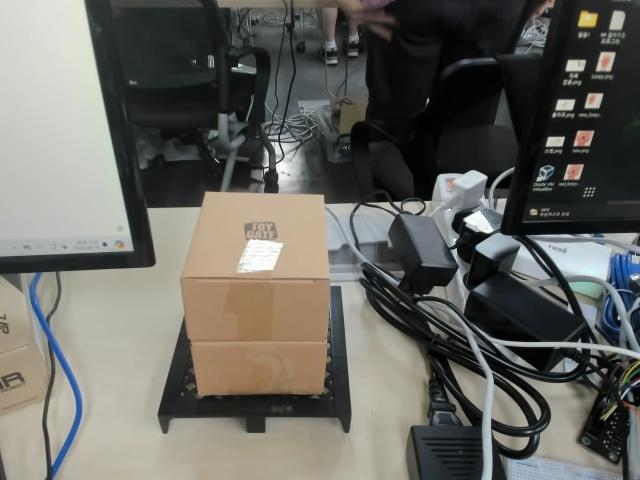box: (152, 191, 353, 433)
